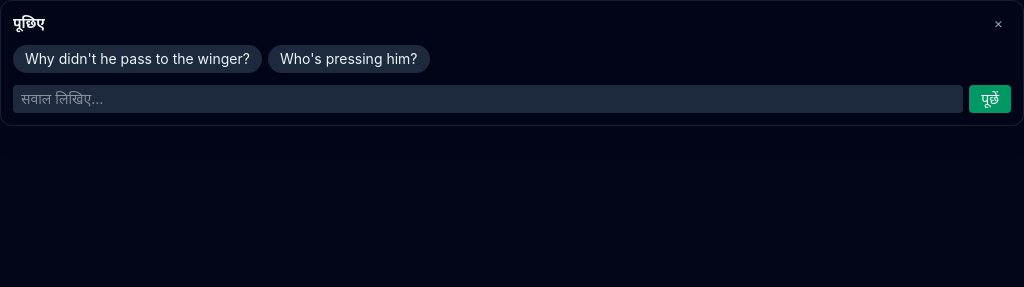
Test case: the Ask panel › shows the offline copy on failed:offline in hi
What coordinates should you click on to do the following:
click the button "Who's pressing him?"
I would click on:
 (349, 59)
Its box is [268, 45, 430, 73].
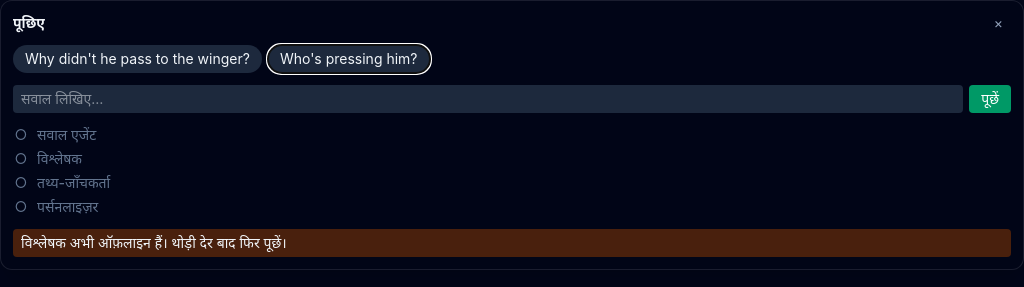
Now the message reads "विश्लेषक अभी ऑफ़लाइन हैं। थोड़ी देर बाद फिर पूछें।", box [21, 234, 287, 251]
